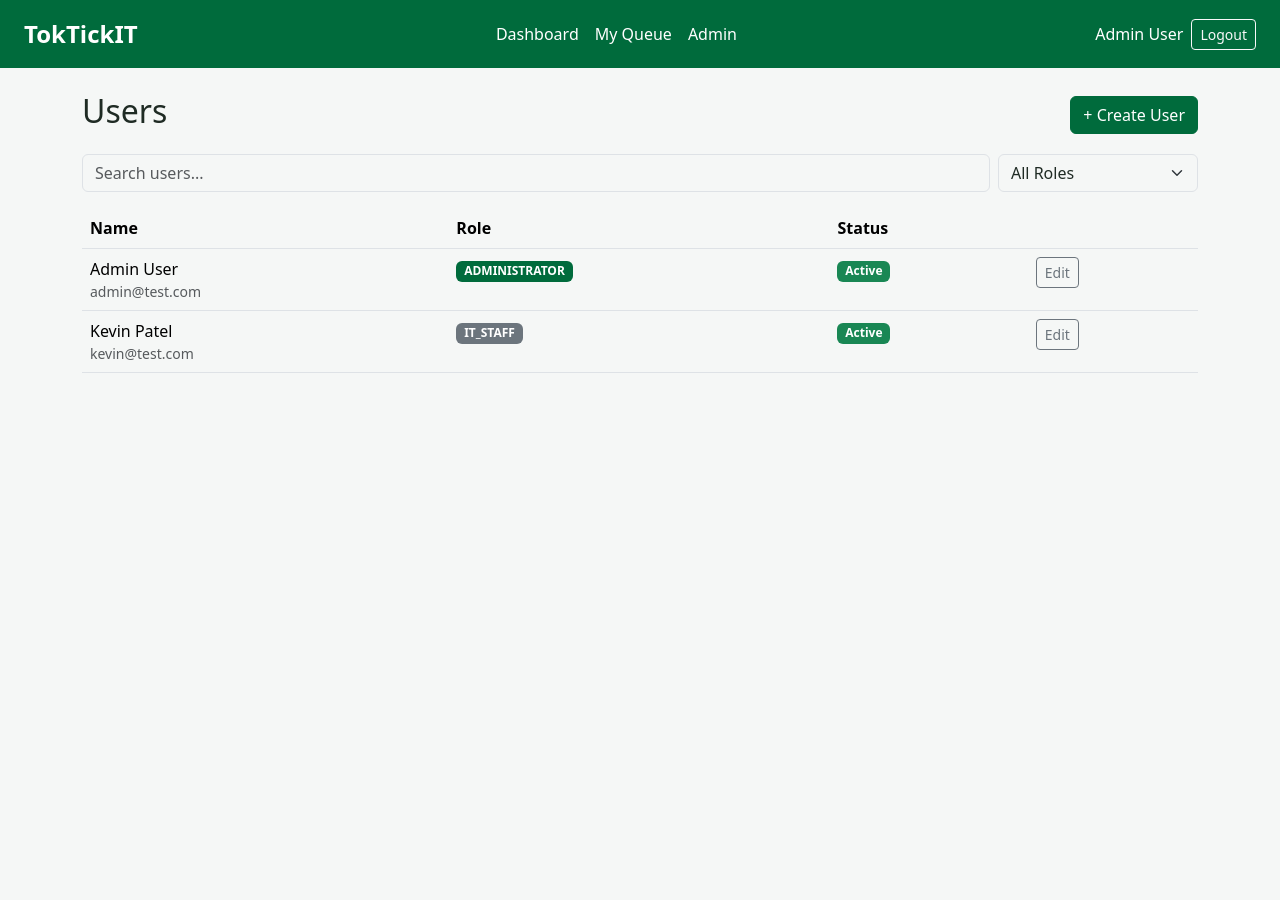
UserManagement › shows a confirmation after resetting a password (FR-17)
Click the button "Edit" in the row of "Kevin Patel".
click(1057, 335)  # box 1036,319 -> 1079,350
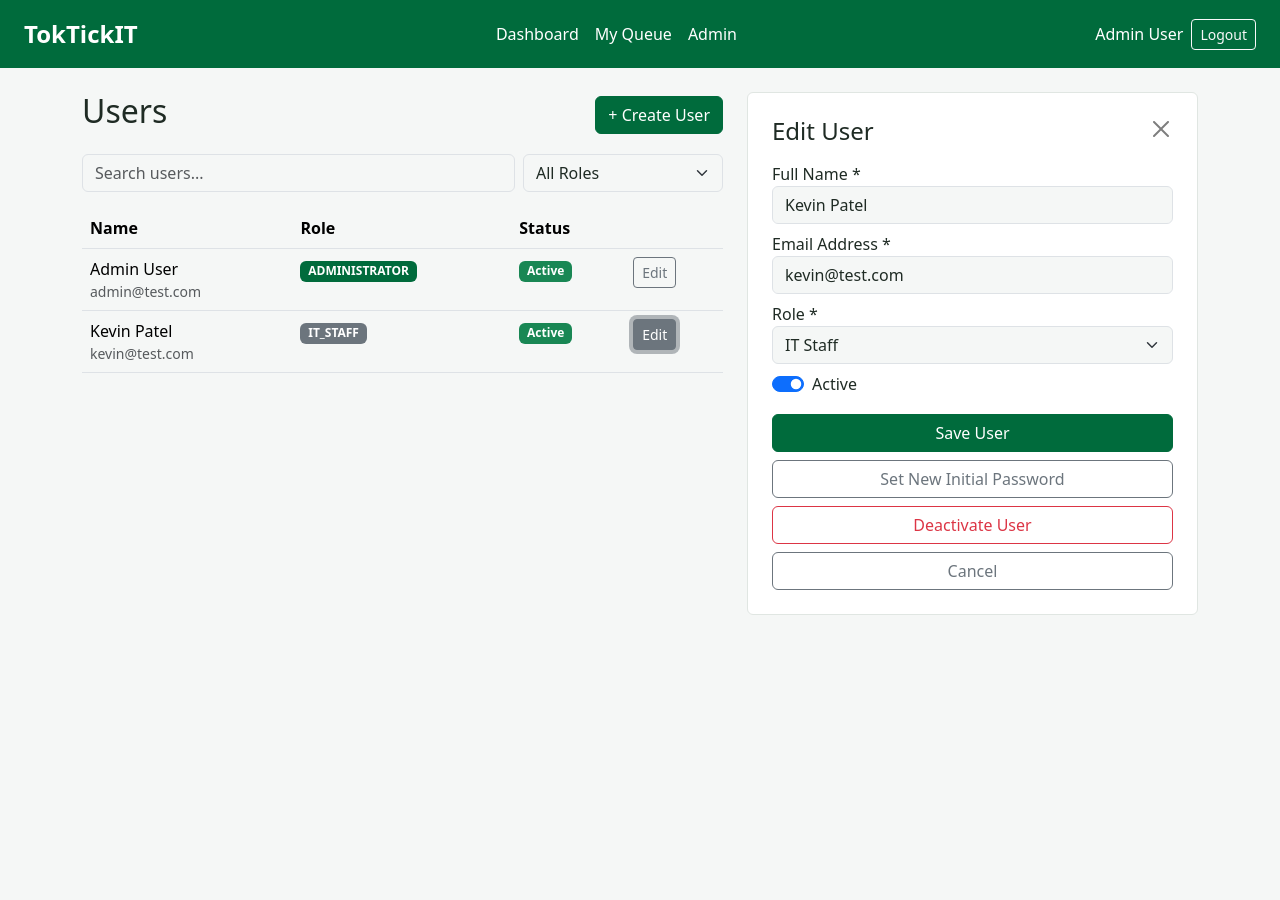
Click the button "Set New Initial Password".
click(972, 479)  # box 772,460 -> 1173,498
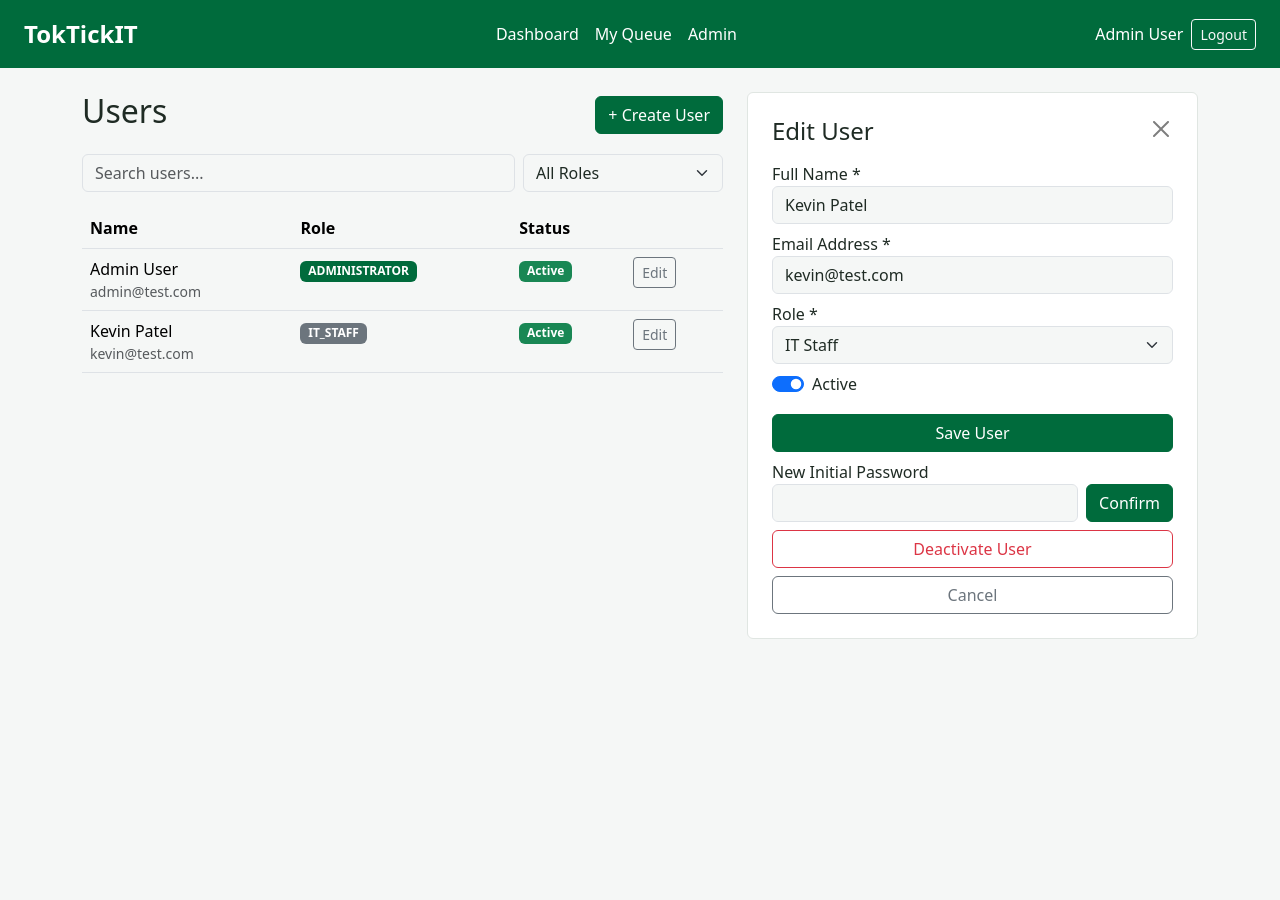
Type "NewTemp!88" into the field labelled "New Initial Password".
click(925, 503); type("NewTemp!88")  # box 772,484 -> 1078,522
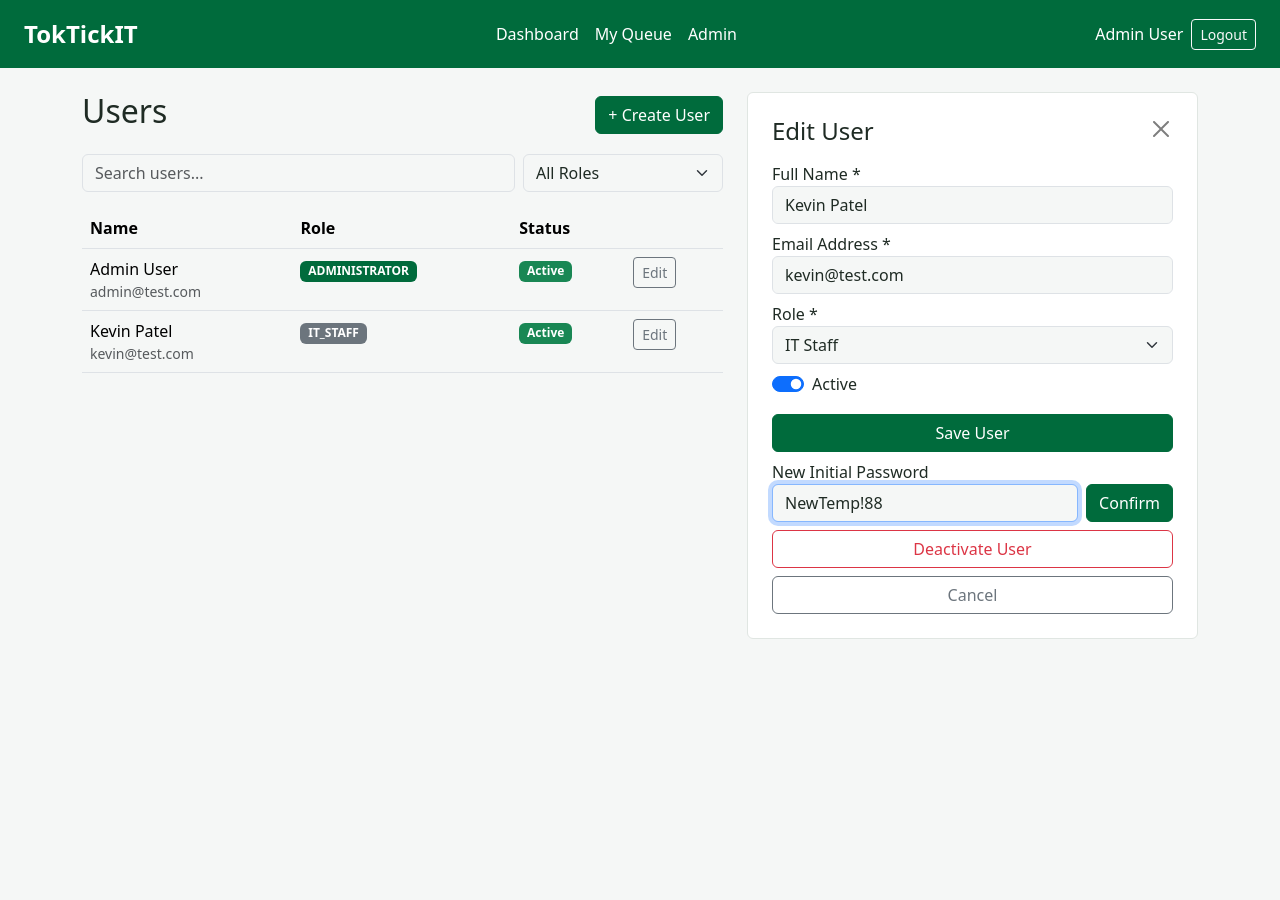
Click the button "Confirm".
click(1130, 503)  # box 1086,484 -> 1173,522
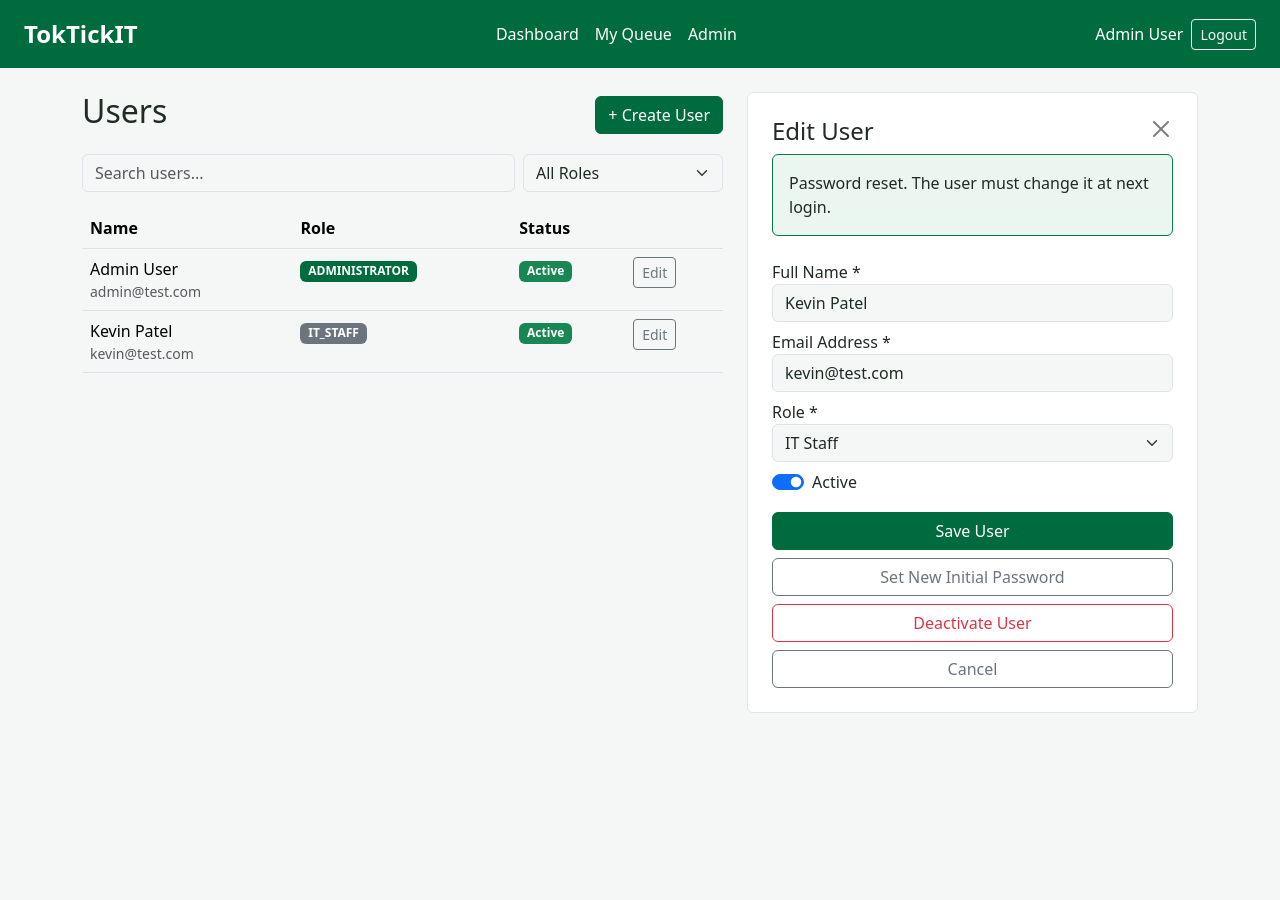
Now the text "Password reset. The user must change it at next login." is shown, box 772,154 -> 1173,236
